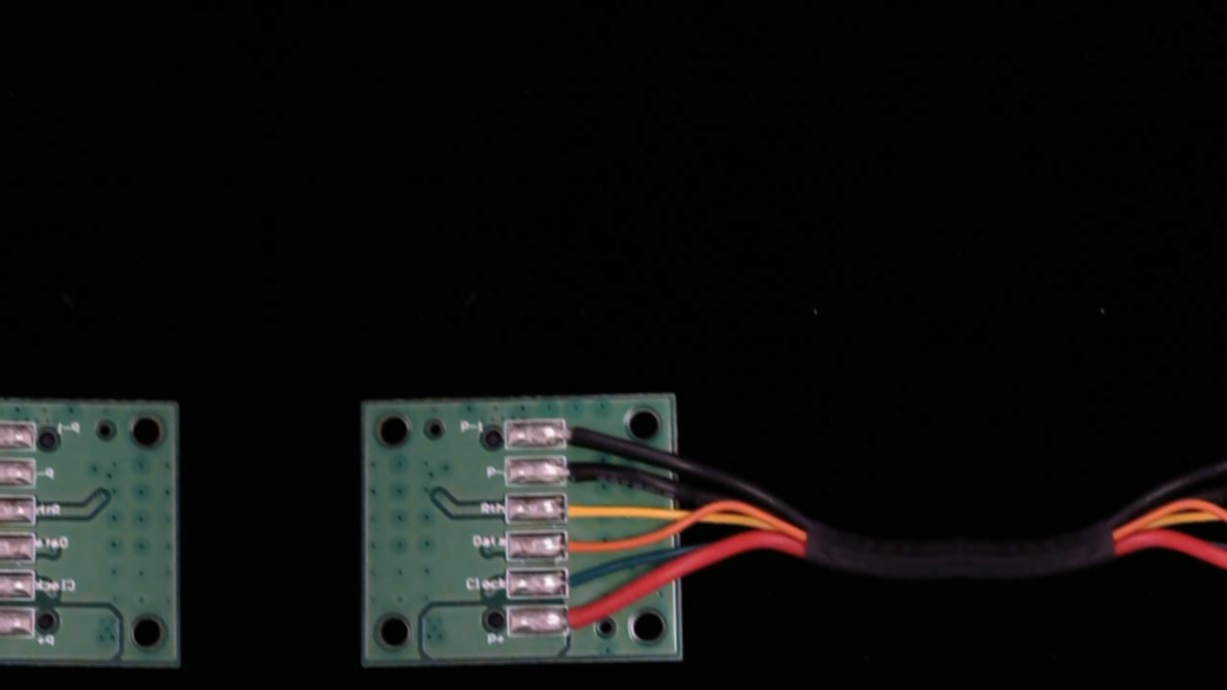Black: (549, 455, 606, 487)
Black1: (549, 418, 607, 450)
Green: (551, 566, 597, 600)
Orange: (550, 532, 600, 563)
Red: (550, 605, 596, 637)
Yellow: (550, 490, 602, 527)
